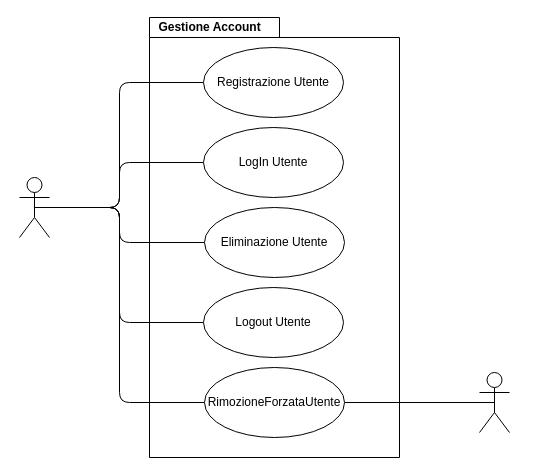
This 540x475 diagram has some shape labels left out. The shapes that lost their labels are listed below. From the top down, each one's centre as x and y in pixels, then its label:
At point (34, 207): "Utente".
At point (494, 402): "ModuloFia".
